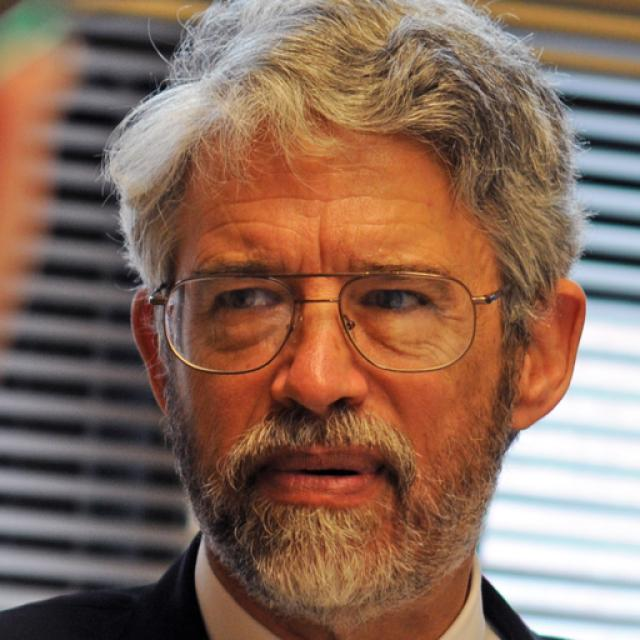Acne: (367, 242, 394, 259)
Wrinkle: (200, 187, 444, 219), (194, 210, 312, 244), (354, 214, 448, 236)
